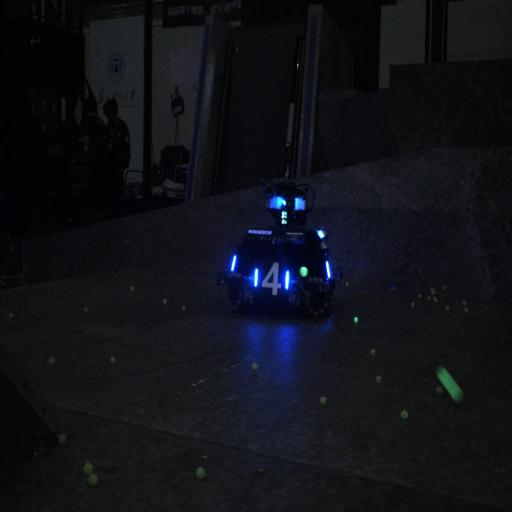target: (250, 254, 295, 306)
